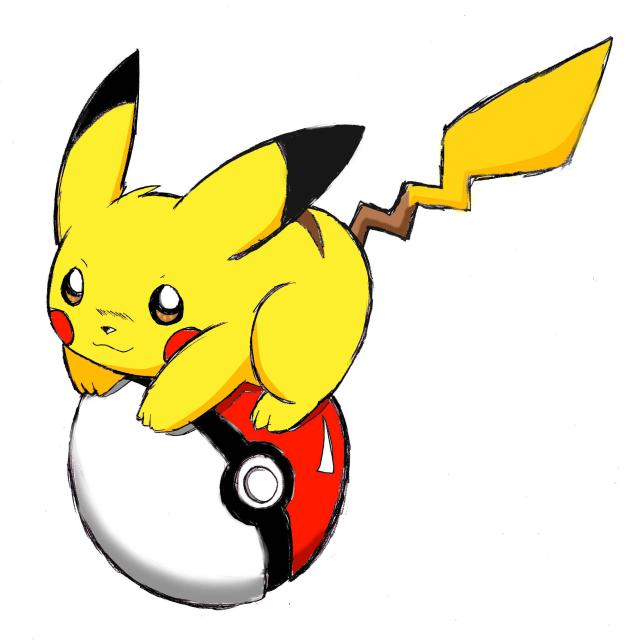pikachu: (46, 35, 612, 435)
